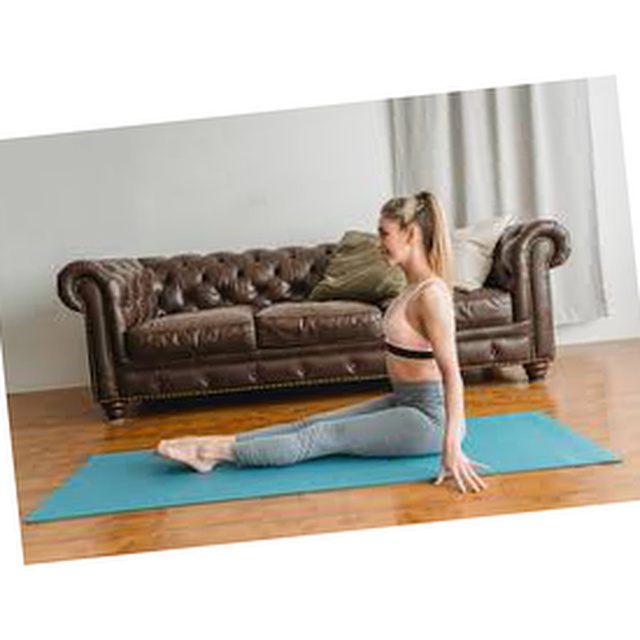Staff_Pose: (156, 191, 492, 496)
